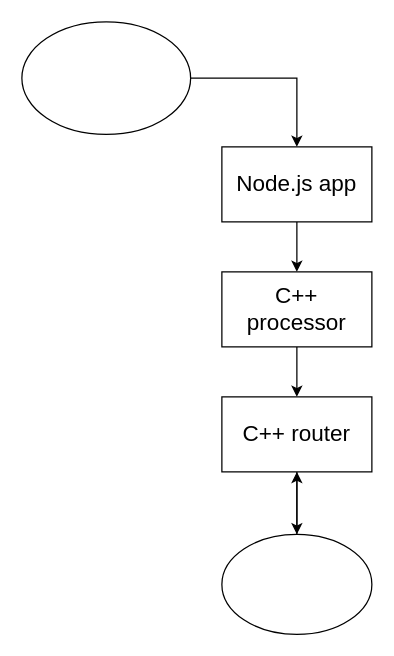
This 394x656 diagram has some shape labels left out. The shapes that lost their labels are listed below. From the top down, each one's box as (x1, y1, x2, y2) in pixels, then its label:
(21, 21, 191, 134): Web data page
(221, 533, 372, 634): Client (web browser)
